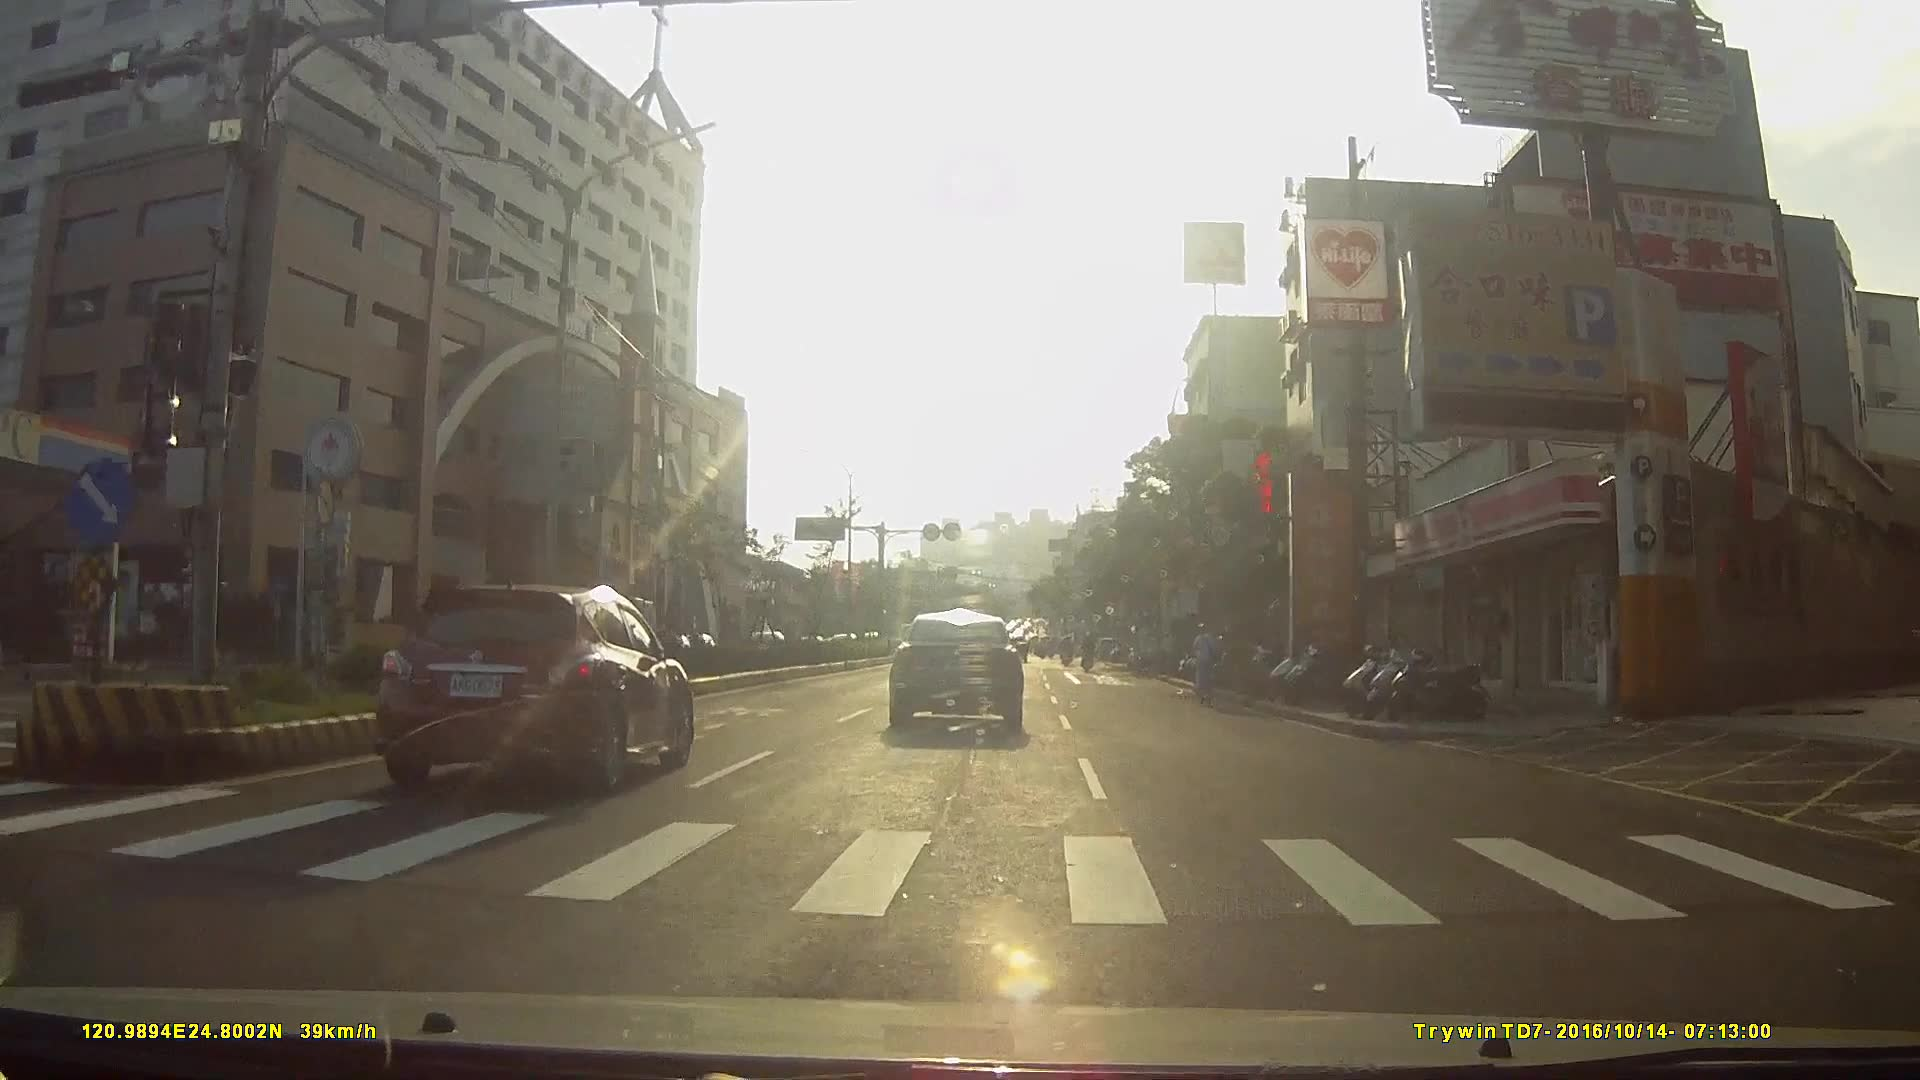rider: (1188, 619, 1224, 705)
vehicle: (367, 576, 703, 803), (886, 609, 1036, 740), (763, 607, 822, 662), (1127, 622, 1178, 675)
